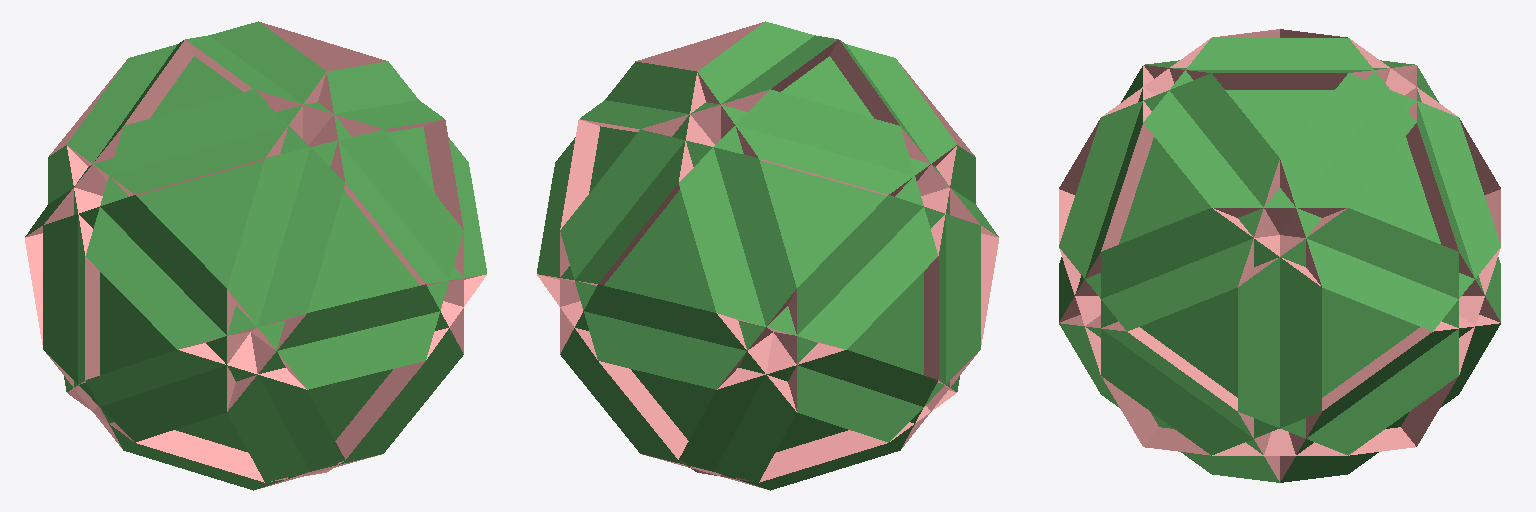
The model's file is SmallDodecicosahedron.obj.
3 views of the same model, side by side, from view 1: azimuth 30°, elevation 25°; view 2: azimuth 150°, elevation 25°; view 3: azimuth 270°, elevation 25° (orthographic).
Size of the model in its own units: 3.24 by 3.24 by 3.24.